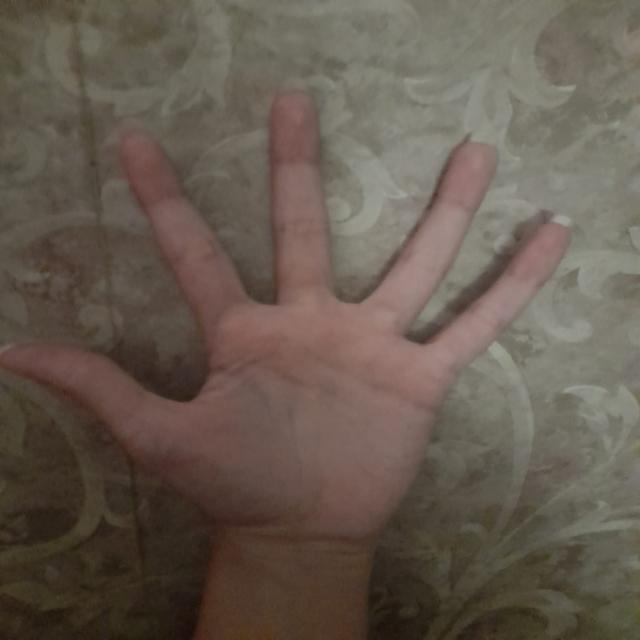Open Hand: (3, 91, 571, 531)
